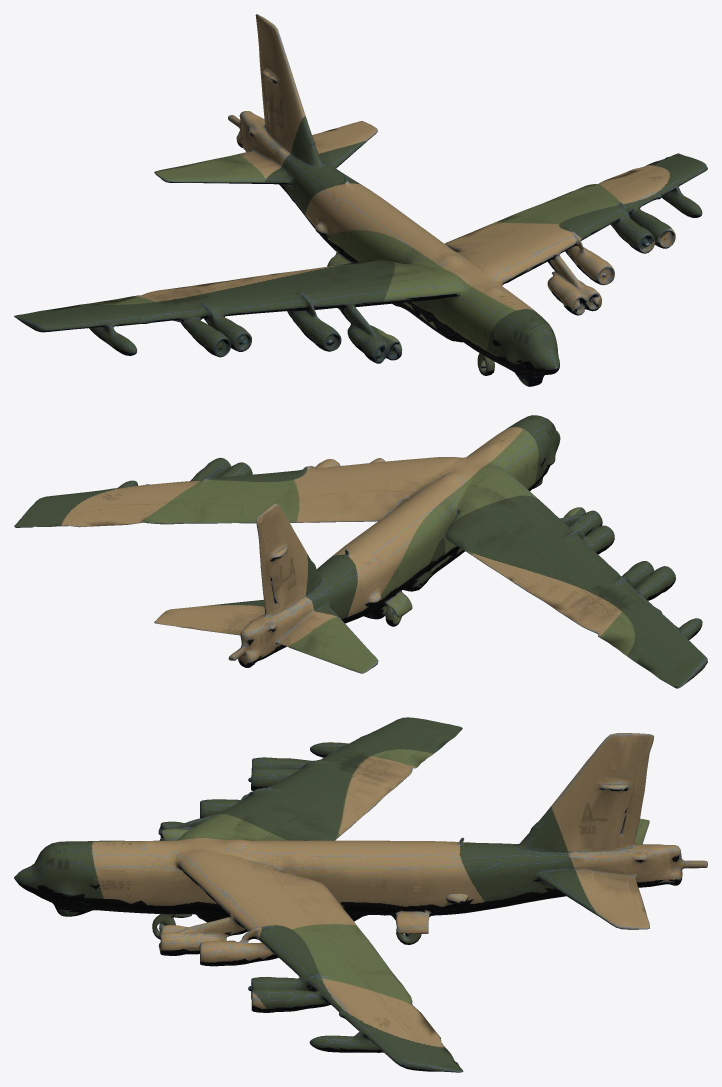
The picture shows the model from 3 angles, top to bottom: view 1: azimuth 30°, elevation 25°; view 2: azimuth 150°, elevation 25°; view 3: azimuth 270°, elevation 25°; orthographic projection. The views are drawn at different scales.
Parts seen in each view (by area): view 1: tripo_node_3b42cee6; view 2: tripo_node_3b42cee6; view 3: tripo_node_3b42cee6.
Part boxes in pixels (<box>): tripo_node_3b42cee6: <box>14,14,707,386</box>; tripo_node_3b42cee6: <box>14,415,707,688</box>; tripo_node_3b42cee6: <box>14,717,707,1072</box>.
Size of the model in its own units: 56.39 by 15.6 by 47.7.
Materials: 1 (1 with a texture image).
